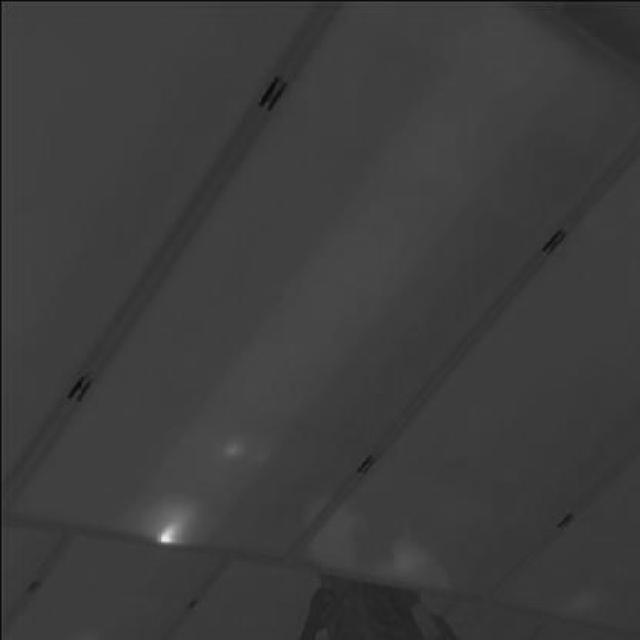hotspot: (138, 497, 191, 546)
